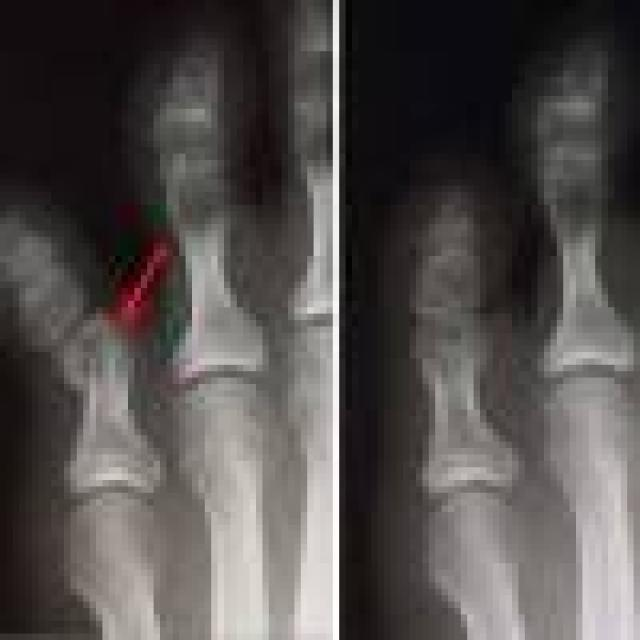Spiral: (42, 263, 175, 452)
